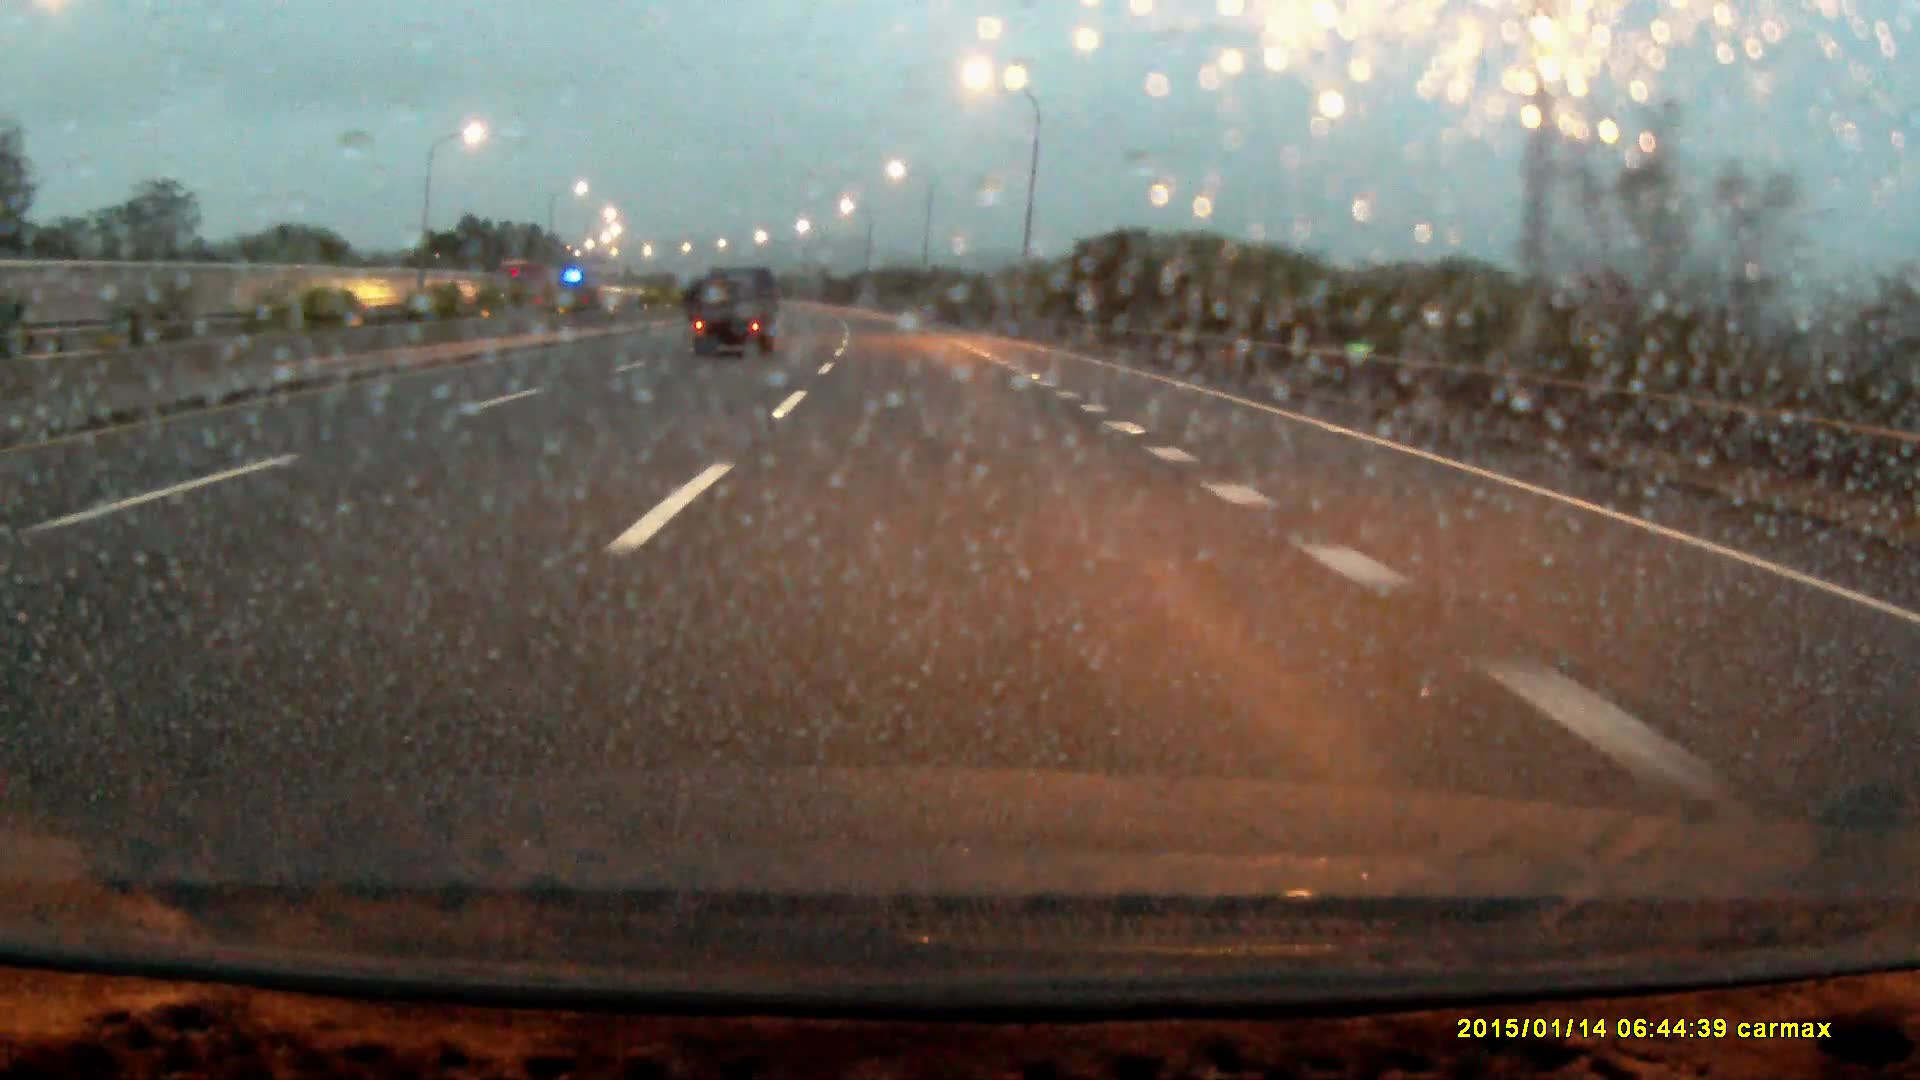vehicle: (694, 266, 775, 360), (496, 261, 554, 309)
